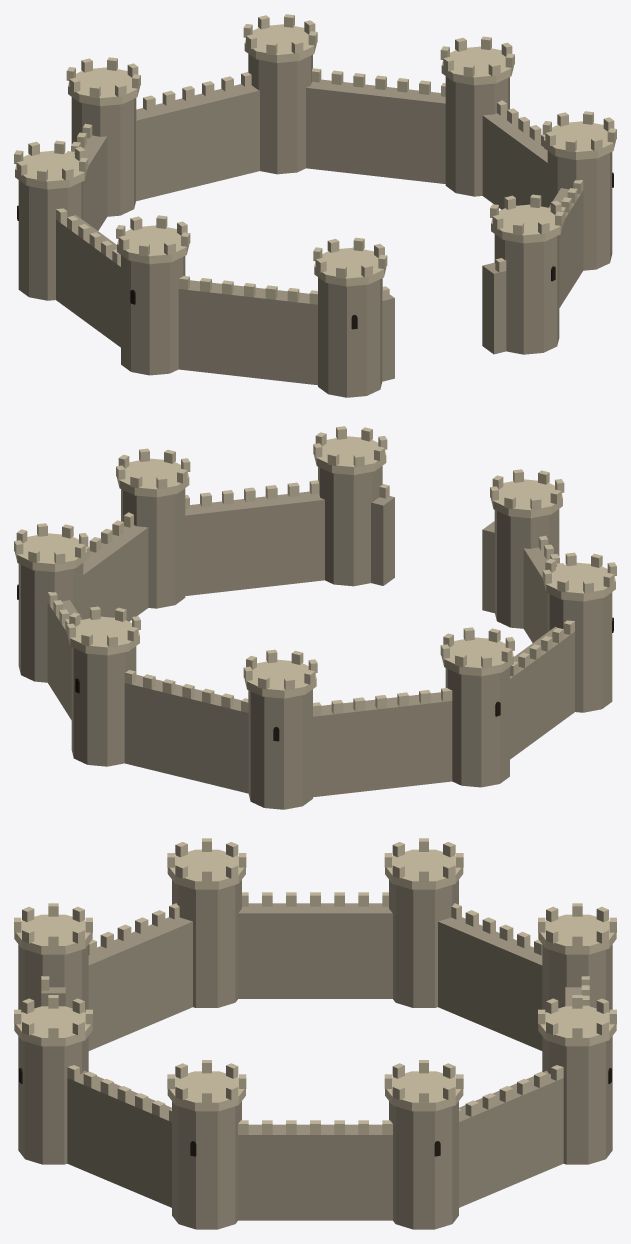
Rendered from castle_curtain_wall.glb.
3 renders of one model, top to bottom at view 1: azimuth 30°, elevation 25°; view 2: azimuth 150°, elevation 25°; view 3: azimuth 270°, elevation 25°, orthographic. The views are drawn at different scales.
Parts seen in each view (by area): view 1: castle_curtain_wall; view 2: castle_curtain_wall; view 3: castle_curtain_wall.
Part boxes in pixels (left/top/right/bottom): castle_curtain_wall: left=14, top=14, right=616, bottom=397; castle_curtain_wall: left=14, top=426, right=616, bottom=809; castle_curtain_wall: left=14, top=838, right=616, bottom=1229.
Size of the model in its own units: 44.65 by 11.35 by 44.65.
